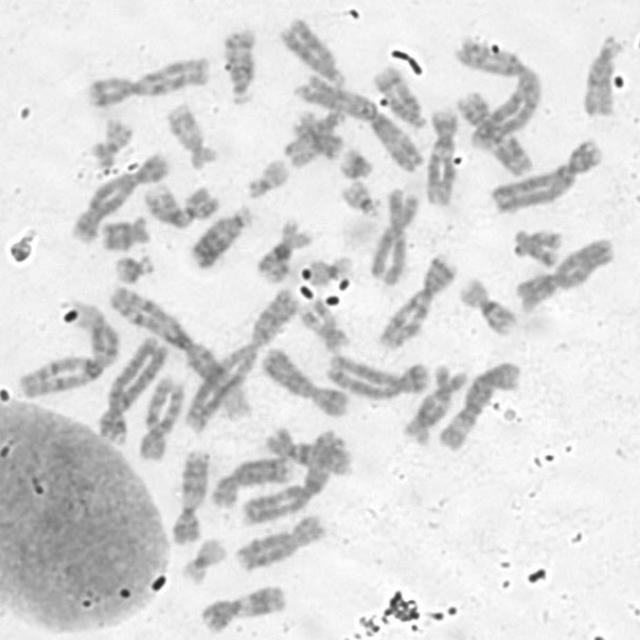A1: (104, 283, 254, 421), (12, 296, 120, 398)
A2: (178, 286, 300, 434), (452, 32, 544, 148)
A3: (292, 70, 427, 174), (238, 426, 346, 526)
B4: (485, 136, 605, 217), (92, 333, 169, 445)
B5: (66, 149, 170, 246), (324, 348, 434, 401)
C10: (263, 422, 357, 478), (134, 374, 188, 461)
C11: (451, 84, 535, 178), (196, 579, 289, 636)
C12: (402, 362, 469, 445), (418, 102, 461, 207)
C6: (436, 356, 524, 453), (512, 232, 616, 314)
C7: (374, 249, 459, 352), (85, 51, 212, 109)
C8: (230, 509, 328, 573), (206, 451, 296, 511)
C9: (167, 444, 212, 546), (139, 178, 219, 230)
D13: (276, 14, 350, 89), (186, 200, 254, 271)
D14: (369, 61, 429, 132), (218, 24, 260, 107)
D15: (282, 106, 351, 169), (579, 28, 626, 118)
E16: (456, 274, 519, 338), (252, 220, 312, 284)
E17: (162, 98, 219, 169), (293, 298, 352, 353)
E18: (508, 223, 566, 268), (94, 212, 154, 254)
F19: (177, 534, 228, 587), (304, 250, 356, 289)
F20: (290, 108, 346, 162), (87, 116, 134, 162)
G21: (109, 250, 157, 285), (334, 141, 376, 181)
G22: (242, 152, 292, 200), (338, 175, 383, 219)
X: (256, 342, 352, 419), (366, 185, 420, 283)
